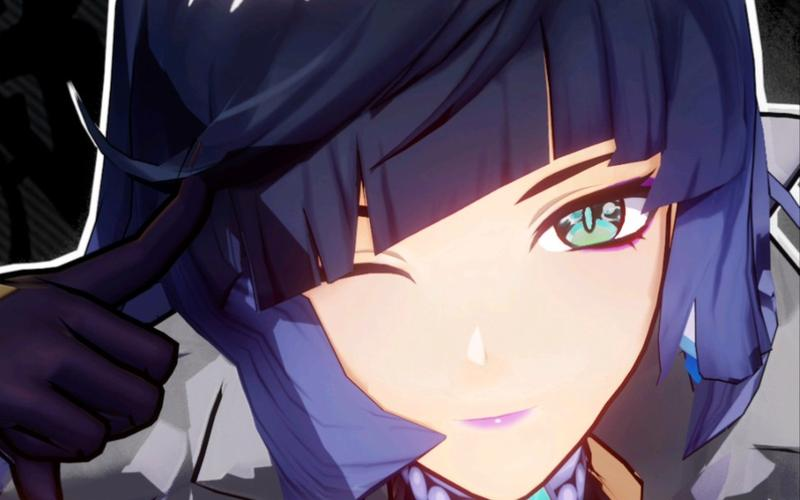夜兰: (1, 1, 770, 500)
